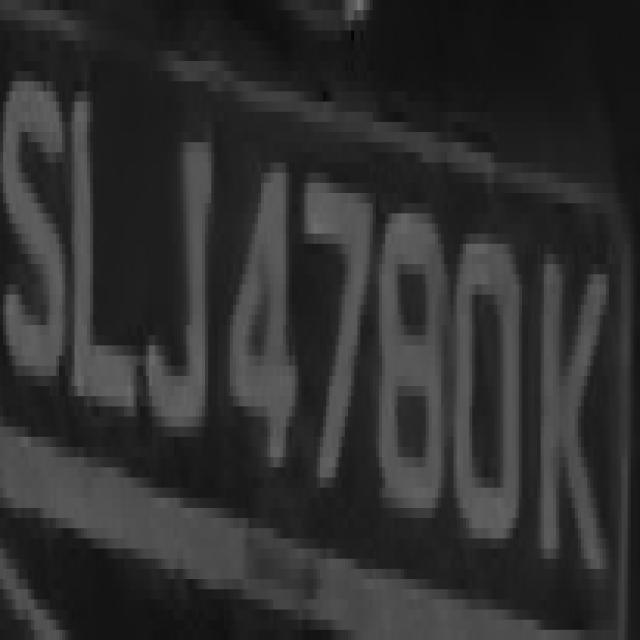0: (438, 162, 519, 600)
4: (220, 122, 304, 488)
7: (301, 112, 376, 528)
8: (376, 132, 447, 549)
J: (134, 91, 220, 488)
K: (528, 193, 612, 610)
L: (65, 41, 140, 437)
S: (3, 21, 65, 417)
